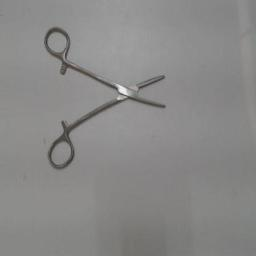Mayo Needle Holder: (42, 23, 172, 173)
